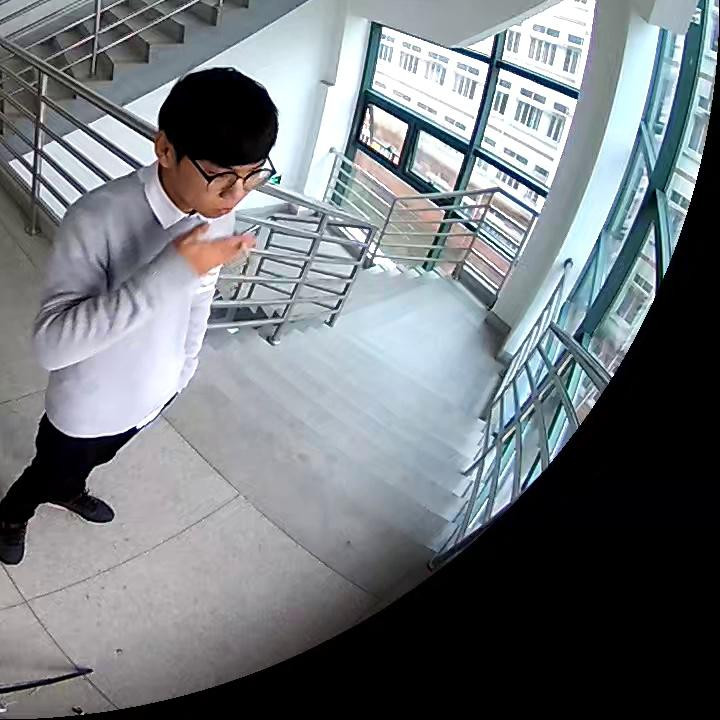handsmoke: (178, 221, 270, 271)
mouthwithoutsmoke: (162, 67, 278, 219)
